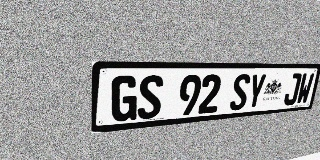2: (198, 74, 222, 114)
9: (178, 75, 202, 116)
G: (111, 75, 139, 122)
J: (283, 73, 302, 106)
S: (137, 75, 164, 120), (229, 74, 251, 111)
W: (296, 73, 315, 104)
Y: (246, 74, 267, 109)
